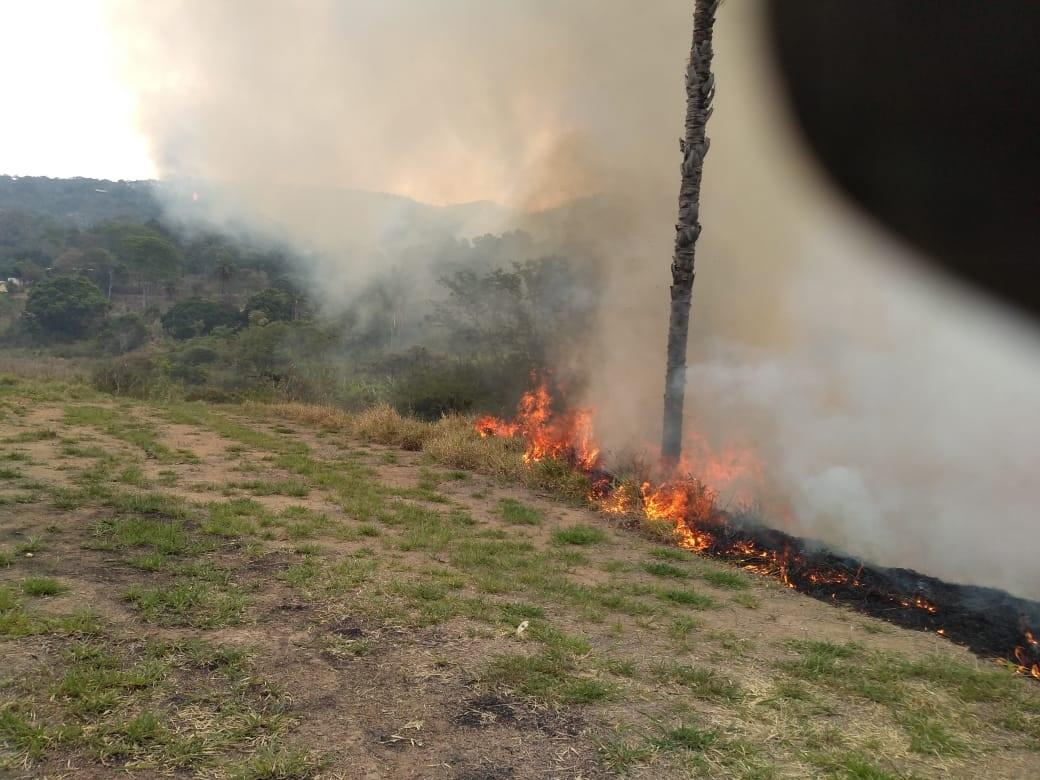Fire: (611, 427, 770, 555), (469, 385, 600, 471)
